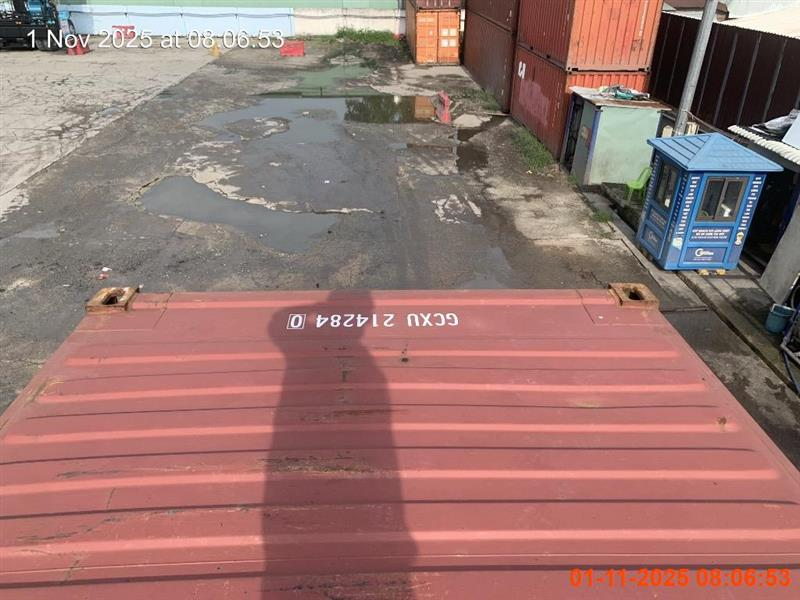broken: (0, 0, 60, 50)
